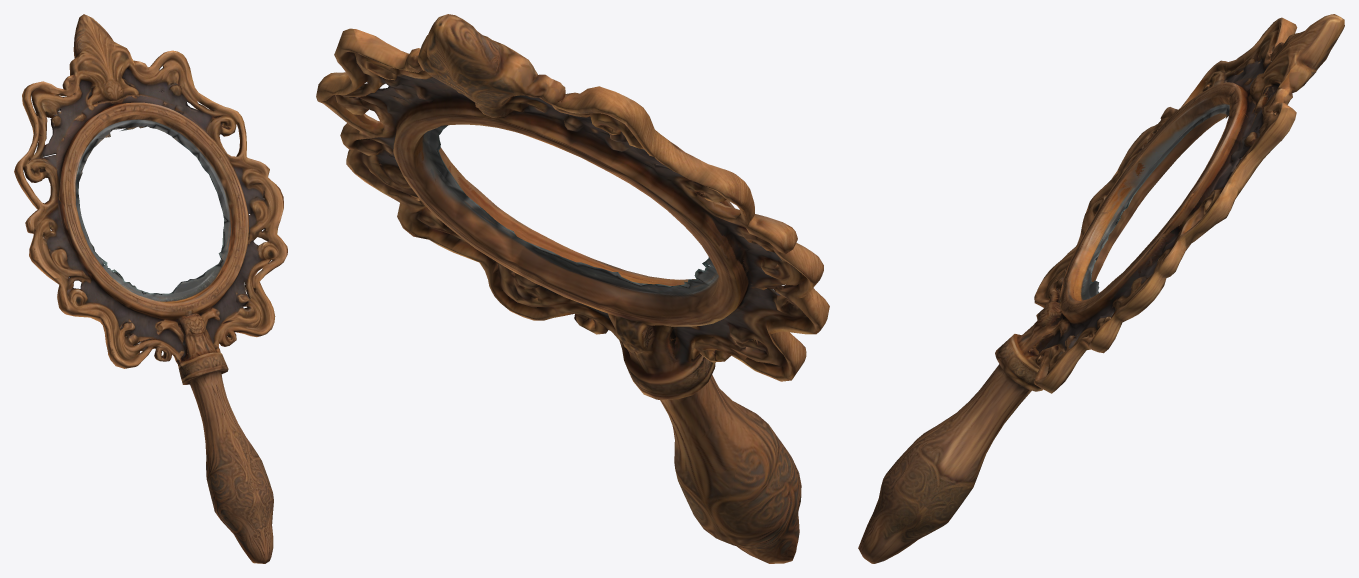
File: zerkalo.glb
3 views of the same model, side by side, from view 1: azimuth 30°, elevation 25°; view 2: azimuth 150°, elevation 25°; view 3: azimuth 270°, elevation 25° (orthographic). The views are drawn at different scales.
Size of the model in its own units: 1.24 by 2 by 1.62.
Materials: 1 (1 with a texture image).
